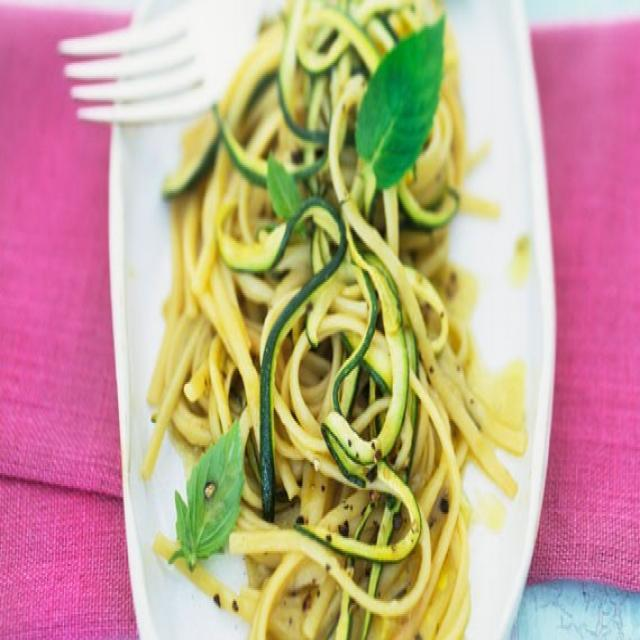Oil pasta: (200, 30, 514, 631)
